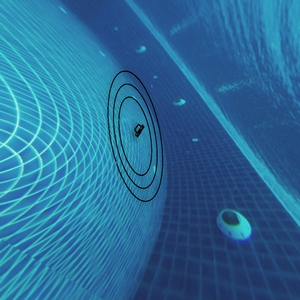circle: (104, 63, 179, 212)
submarine: (134, 121, 144, 134)
